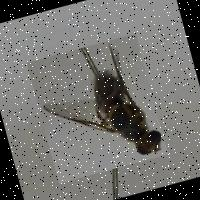Oriental-fruit-fly: (26, 34, 167, 184)
